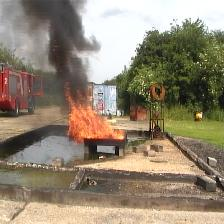fire: (69, 105, 123, 140)
smoke: (53, 30, 84, 89), (24, 0, 73, 25)
